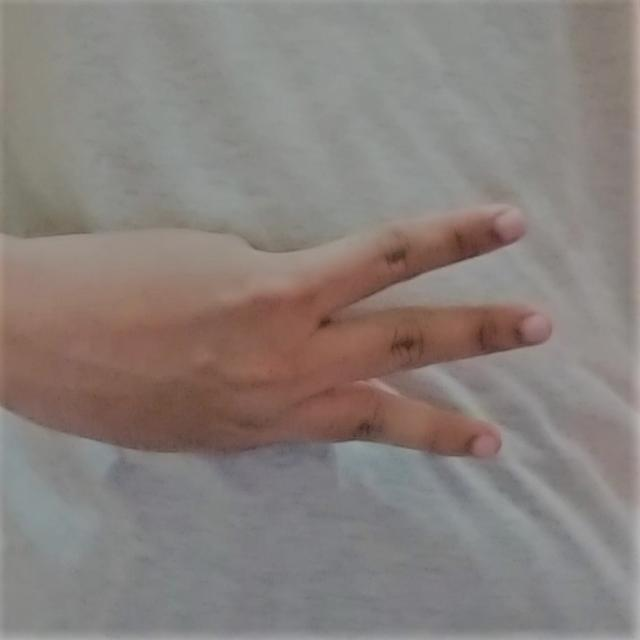E: (9, 193, 556, 475)
